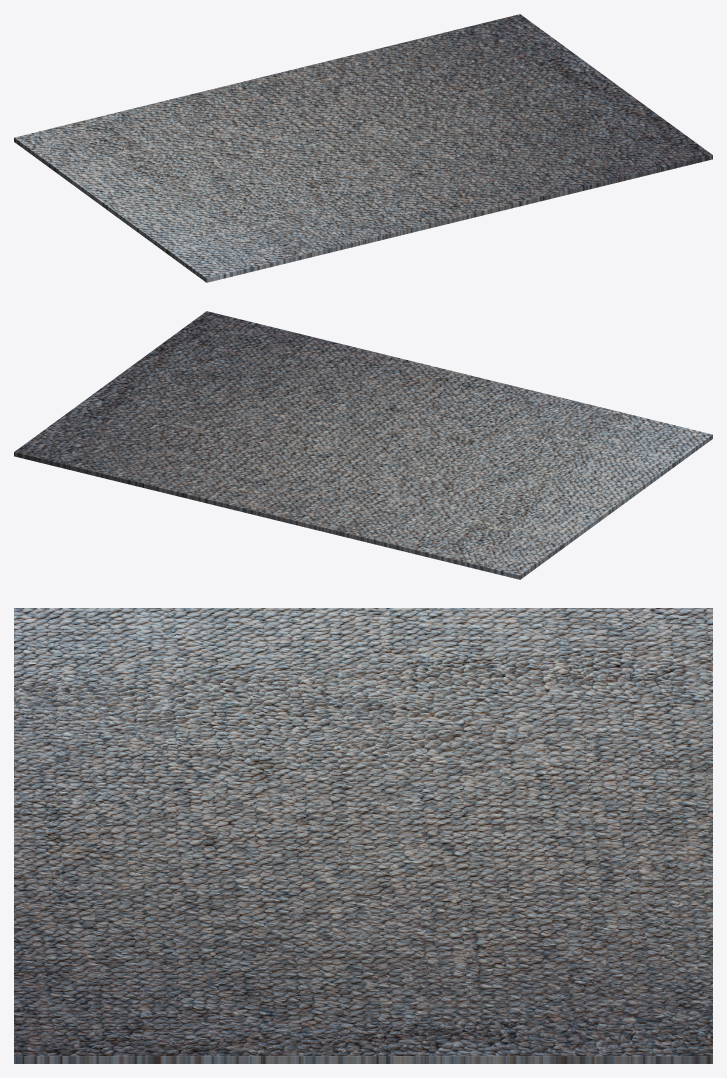
File: rug.gltf
3 views of the same model, one above another, from view 1: azimuth 30°, elevation 25°; view 2: azimuth 150°, elevation 25°; view 3: azimuth 270°, elevation 25° (orthographic). The views are drawn at different scales.
Parts seen in each view (by area): view 1: node-0; view 2: node-0; view 3: node-0.
Boxes of the visible parts, x1,y1,x2,y2 form: node-0: [14, 14, 712, 282]; node-0: [14, 311, 712, 579]; node-0: [14, 608, 712, 1063].
Size of the model in its own units: 7.07 by 0.0565 by 4.66.
Materials: 1 (1 with a texture image).
